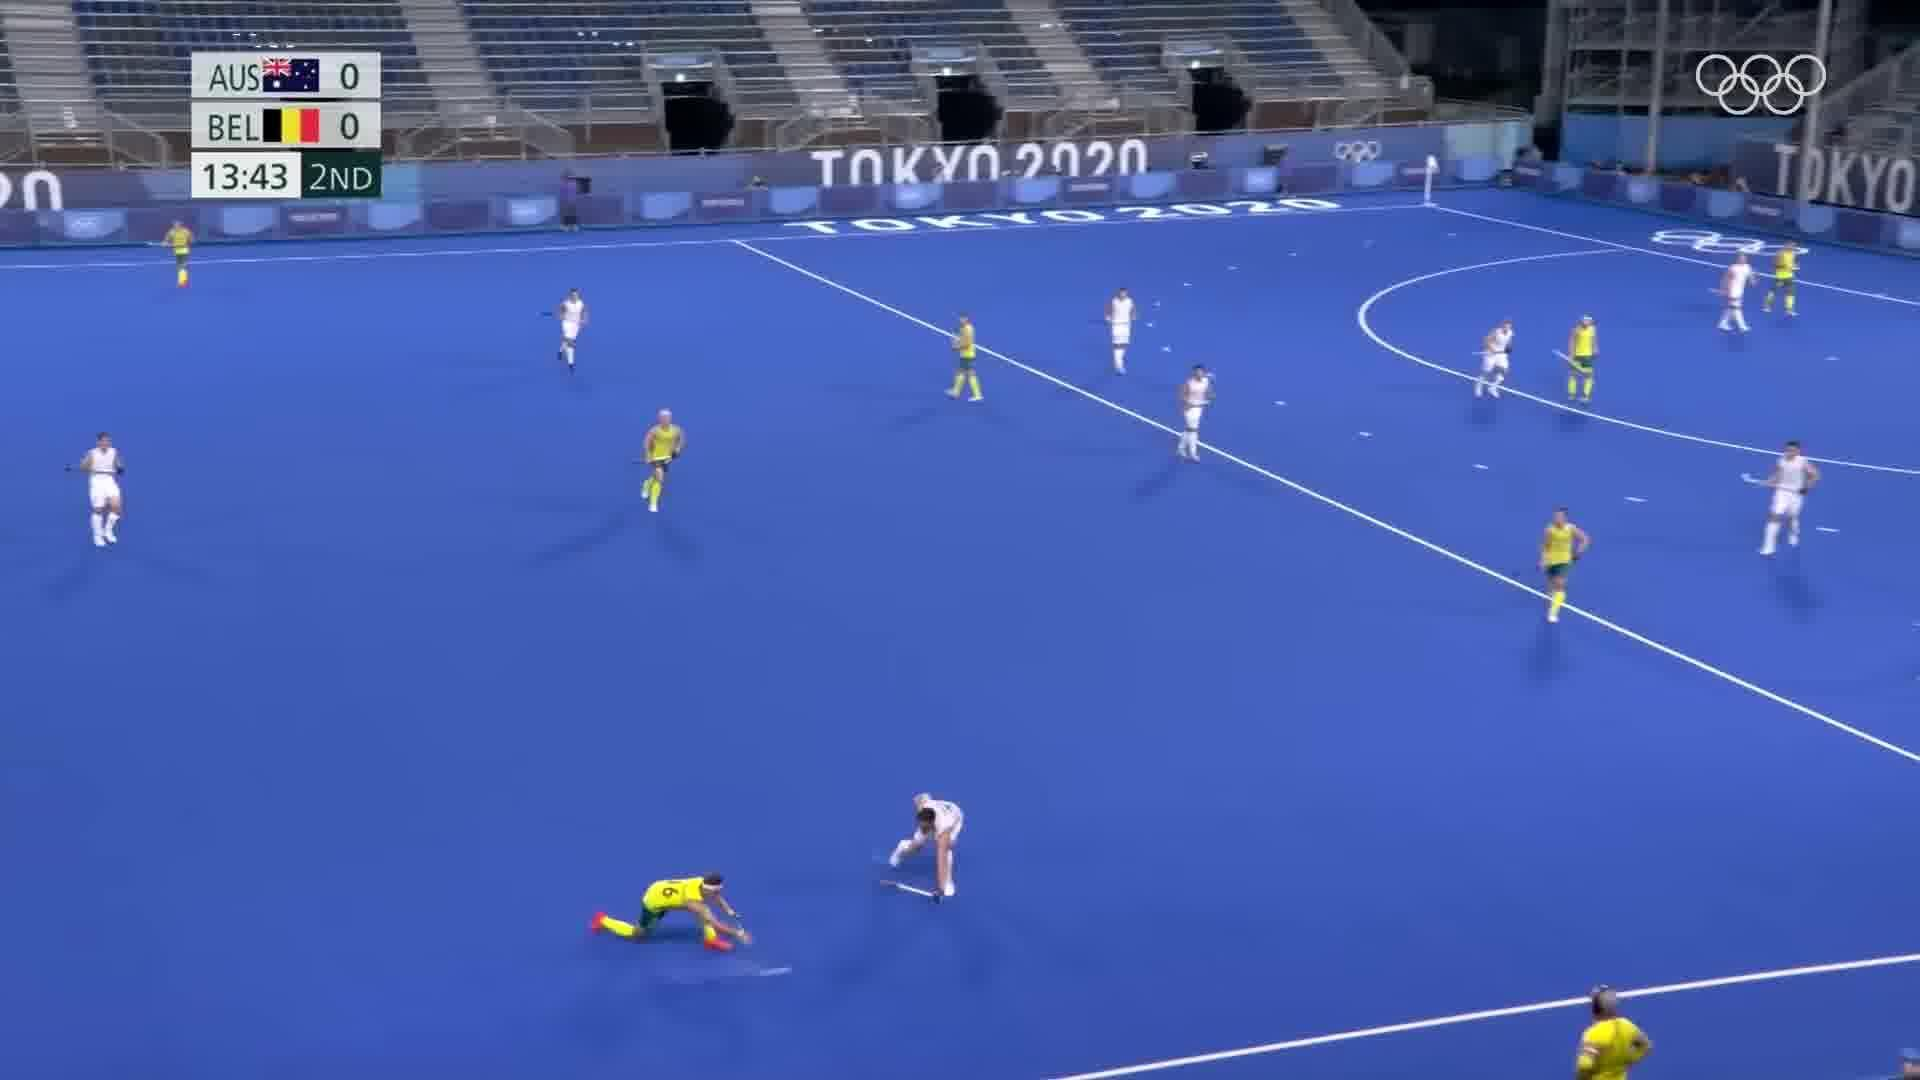ball: (751, 959, 805, 984)
